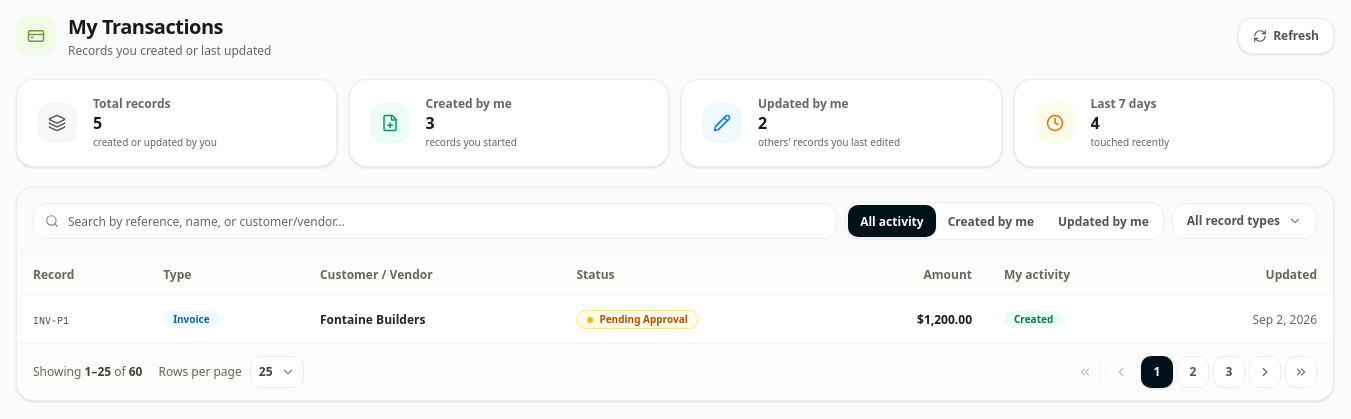
Test case: TransactionsPage › pagination › steps back to the last real page when the list has shrunk past the requested one
The image size is (1351, 419).
Expected: the link "INV-P1" is shown, left=33, top=314, right=69, bottom=327
Step 1. Click the button named "Last page" → [1301, 372], box left=1285, top=356, right=1317, bottom=388
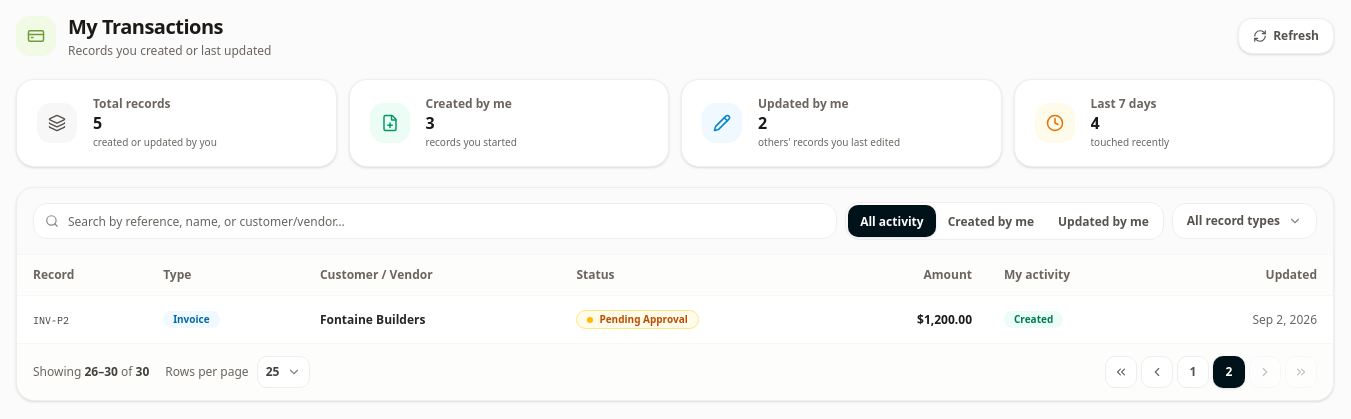
Now the link "INV-P2" is shown, box left=33, top=314, right=69, bottom=327
Now the text "Showing 26–30 of 30" is shown, box left=33, top=364, right=149, bottom=380
